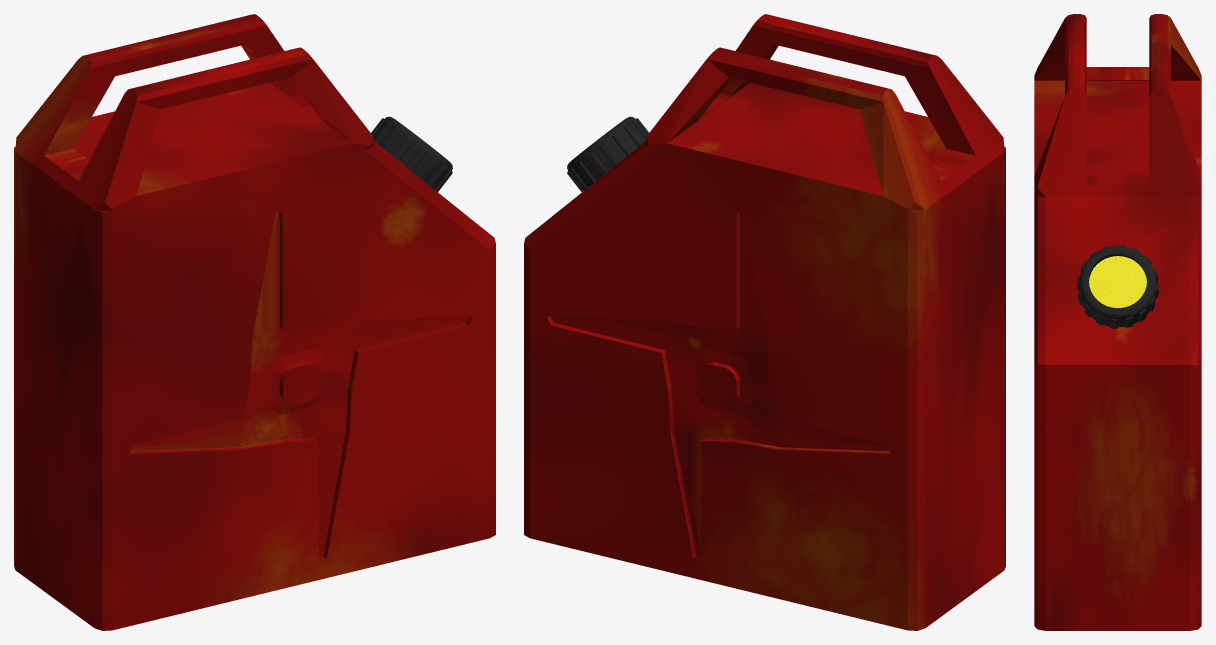
File: JerryCan.dae
3 views of the same model, side by side, from view 1: azimuth 30°, elevation 25°; view 2: azimuth 150°, elevation 25°; view 3: azimuth 270°, elevation 25° (orthographic). The views are drawn at different scales.
Parts seen in each view (by area): view 1: JerryCan, JerryCanLid; view 2: JerryCan, JerryCanLid; view 3: JerryCan, JerryCanLid.
Boxes of the visible parts, <box> form: JerryCan: <box>14,14,495,630</box>; JerryCanLid: <box>371,116,452,191</box>; JerryCan: <box>524,14,1005,630</box>; JerryCanLid: <box>567,116,648,191</box>; JerryCan: <box>1034,14,1201,630</box>; JerryCanLid: <box>1077,245,1158,328</box>.
Size of the model in its own units: 2 by 0.8 by 2.45.
Materials: 2 (2 with a texture image).
